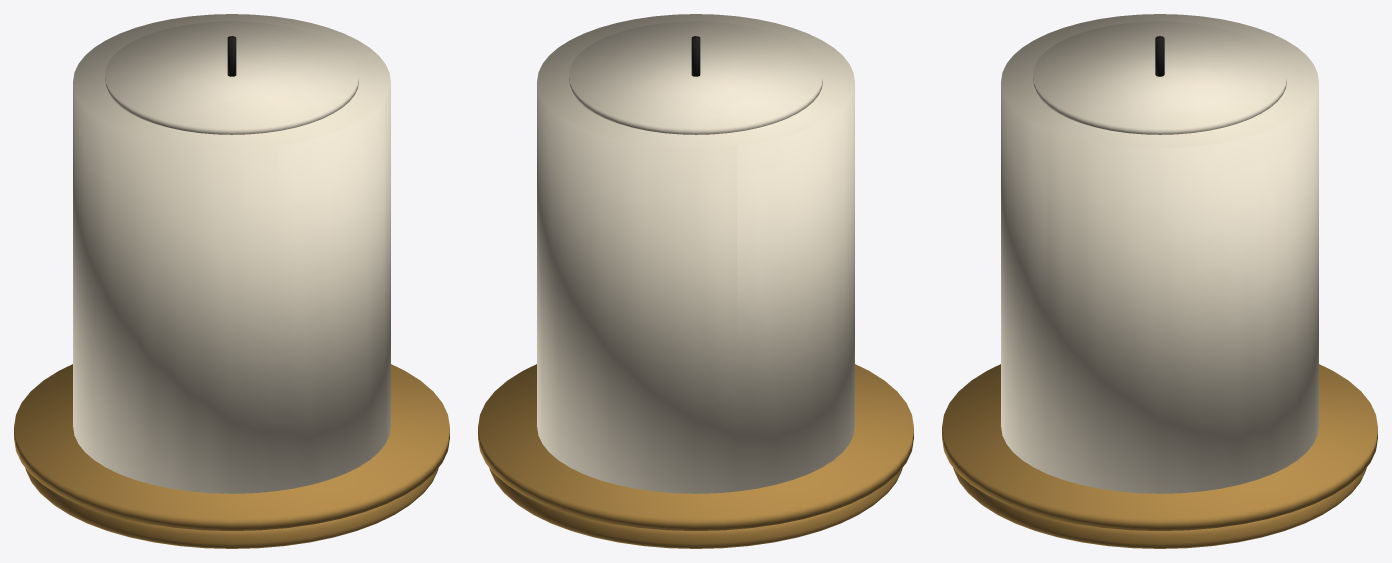
3 views of the same model, side by side, from view 1: azimuth 30°, elevation 25°; view 2: azimuth 150°, elevation 25°; view 3: azimuth 270°, elevation 25° (orthographic).
Parts seen in each view (by area): view 1: candle-pillar; view 2: candle-pillar; view 3: candle-pillar.
Part boxes in pixels (box(x1,y1,x2,y2)): candle-pillar: box(14, 14, 449, 548); candle-pillar: box(478, 14, 913, 548); candle-pillar: box(942, 14, 1377, 548).
Bounding box in the file's own units: 0.096 × 0.1035 × 0.096.
3 materials, 1 textured.
